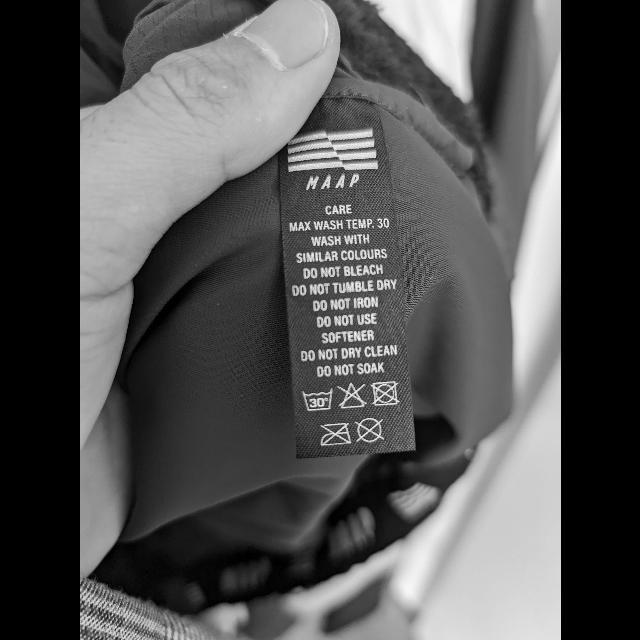30C: (298, 388, 334, 412)
DN_bleach: (336, 381, 368, 411)
DN_dry_clean: (353, 417, 385, 443)
DN_iron: (318, 421, 352, 447)
DN_tumble_dry: (368, 379, 402, 409)
